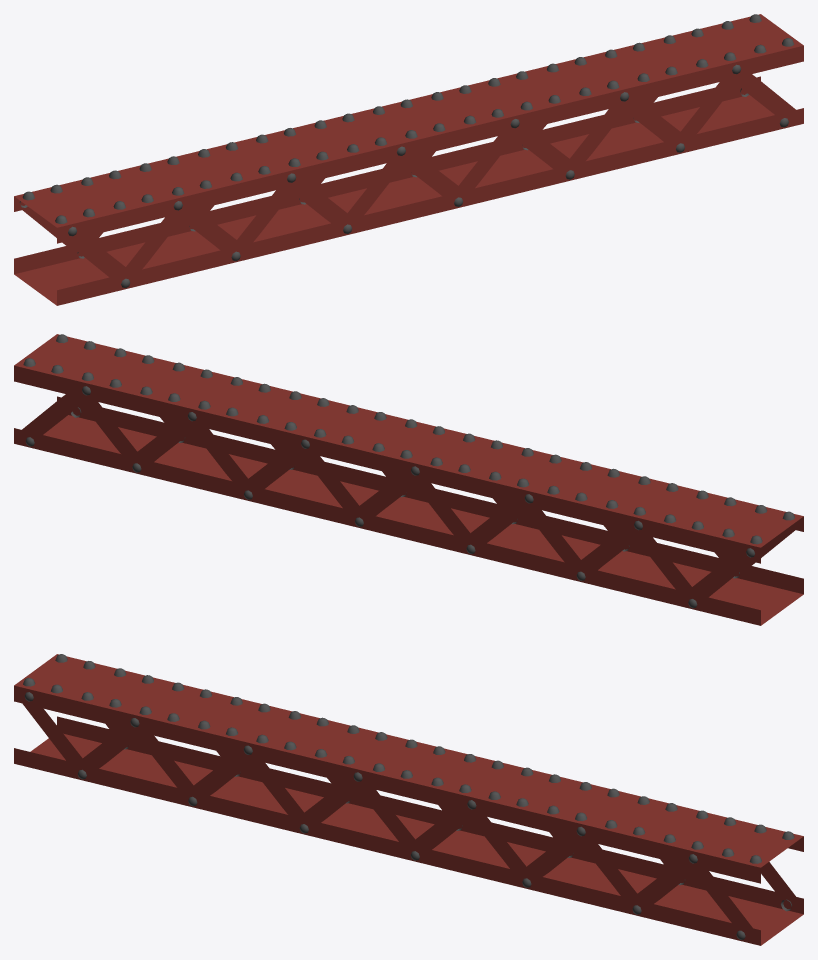
The model's file is SteelFrame.fbx.
The picture shows the model from 3 angles, top to bottom: view 1: azimuth 30°, elevation 25°; view 2: azimuth 150°, elevation 25°; view 3: azimuth 330°, elevation 25°; orthographic projection.
Parts seen in each view (by area): view 1: SteelFrame; view 2: SteelFrame; view 3: SteelFrame.
Boxes of the visible parts, x1,y1,x2,y2 form: SteelFrame: (14, 14, 803, 305); SteelFrame: (14, 334, 803, 625); SteelFrame: (14, 654, 803, 945).
Bounding box in the file's own units: 1000 × 107 × 108.
